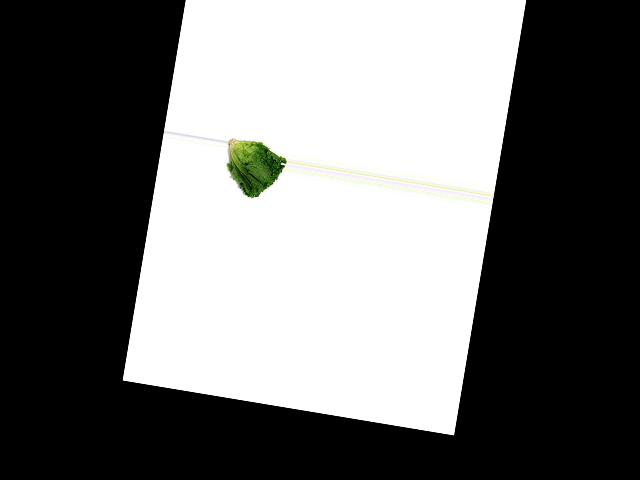lettuce: (217, 132, 289, 207)
